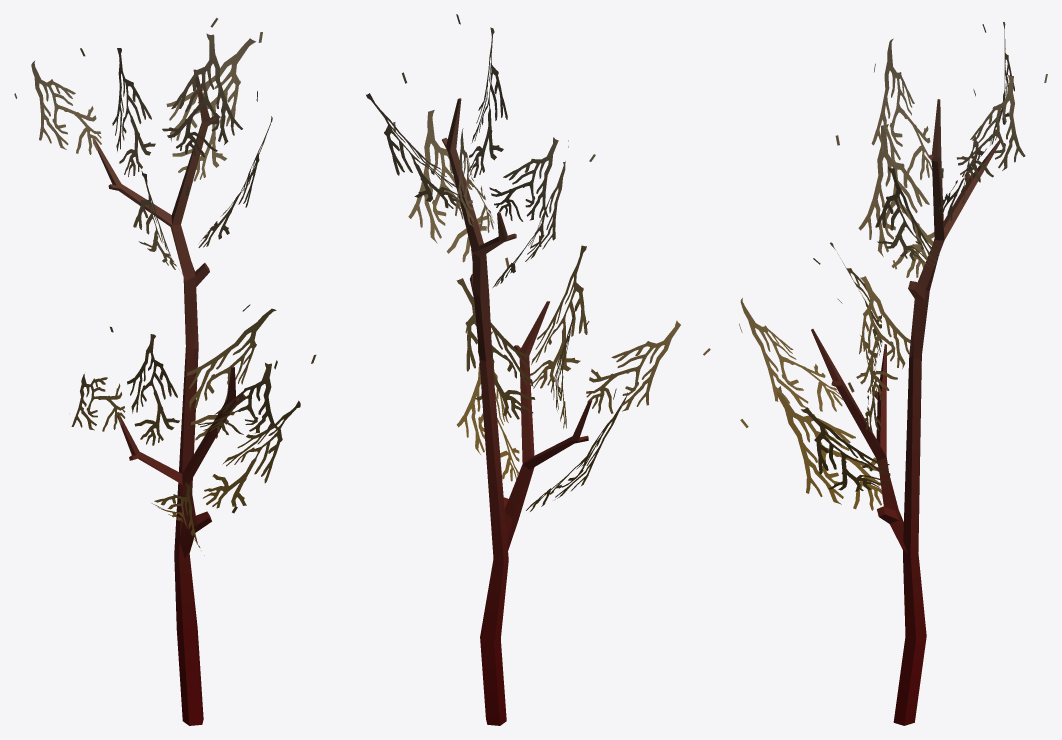
Rendered from synty-tree-dead-02.gltf.
3 renders of one model, left to right at view 1: azimuth 30°, elevation 25°; view 2: azimuth 150°, elevation 25°; view 3: azimuth 270°, elevation 25°, orthographic.
Parts seen in each view (by area): view 1: SM_Tree_Dead_02; view 2: SM_Tree_Dead_02; view 3: SM_Tree_Dead_02.
Boxes of the visible parts, <box> form: SM_Tree_Dead_02: <box>14,18,316,725</box>; SM_Tree_Dead_02: <box>366,14,710,725</box>; SM_Tree_Dead_02: <box>739,22,1047,725</box>.
Size of the model in its own units: 1.19 by 2.66 by 1.07.
2 materials, 2 textured.
